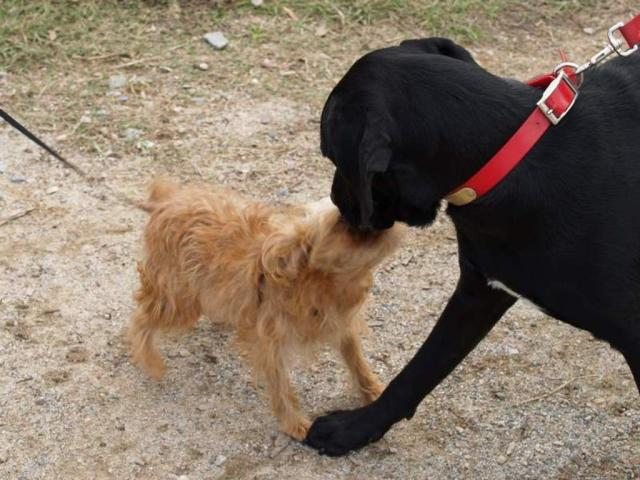Dog: (298, 36, 639, 460), (130, 177, 412, 442)
